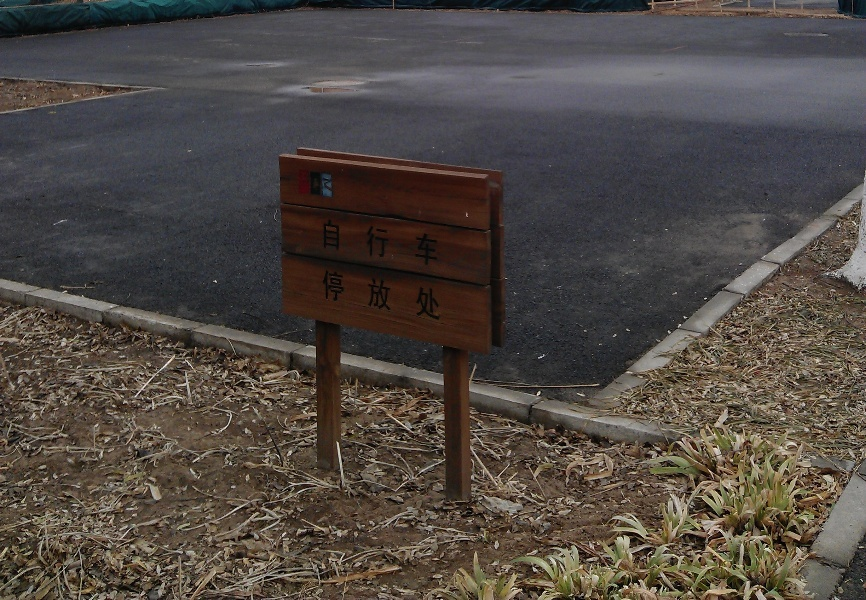text: (337, 269, 352, 321), (353, 269, 368, 321), (369, 269, 384, 321), (385, 269, 400, 321), (401, 269, 416, 321), (417, 269, 432, 321), (337, 219, 352, 269), (353, 219, 368, 269), (369, 219, 384, 269), (385, 219, 400, 269), (401, 219, 416, 269), (417, 219, 432, 269), (322, 219, 336, 269), (323, 269, 336, 321), (433, 269, 441, 321), (433, 219, 439, 269)
